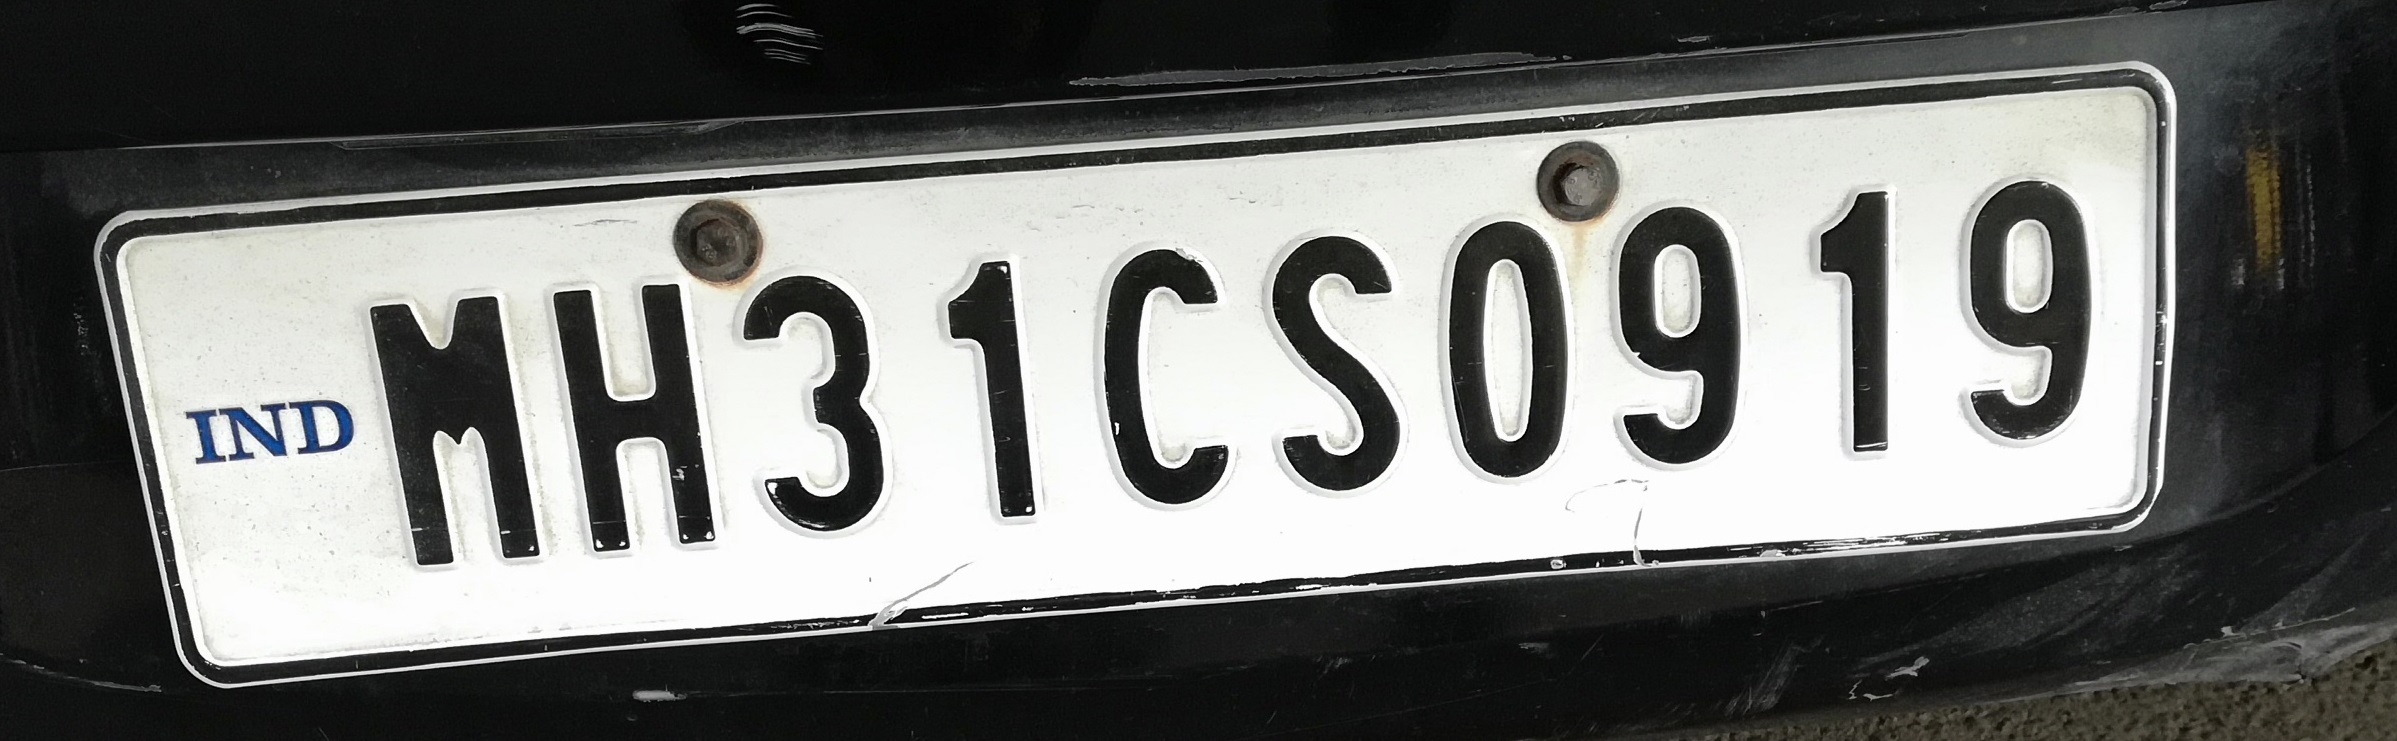numberplate: (95, 81, 2181, 698)
